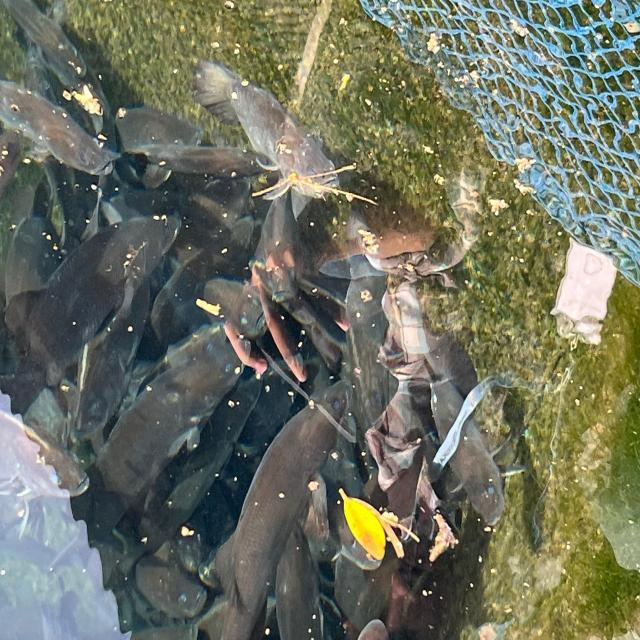ikan: (240, 84, 360, 212), (268, 380, 365, 527), (88, 203, 199, 303)
